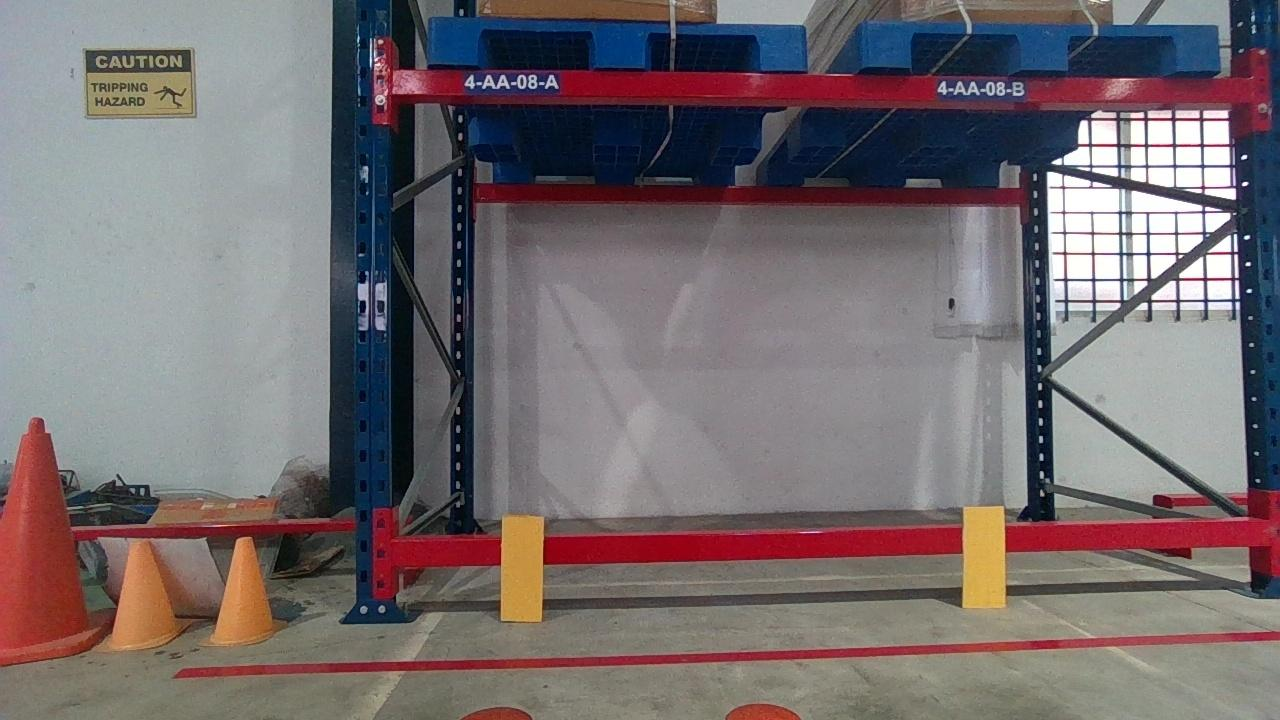h_rack: (396, 516, 1265, 568), (395, 65, 1251, 105), (1004, 519, 1263, 551)
orange_strip: (960, 506, 1006, 607), (500, 514, 543, 622)
red_line: (168, 625, 1278, 682)
small_pallet: (427, 19, 806, 68), (860, 21, 1222, 70)
